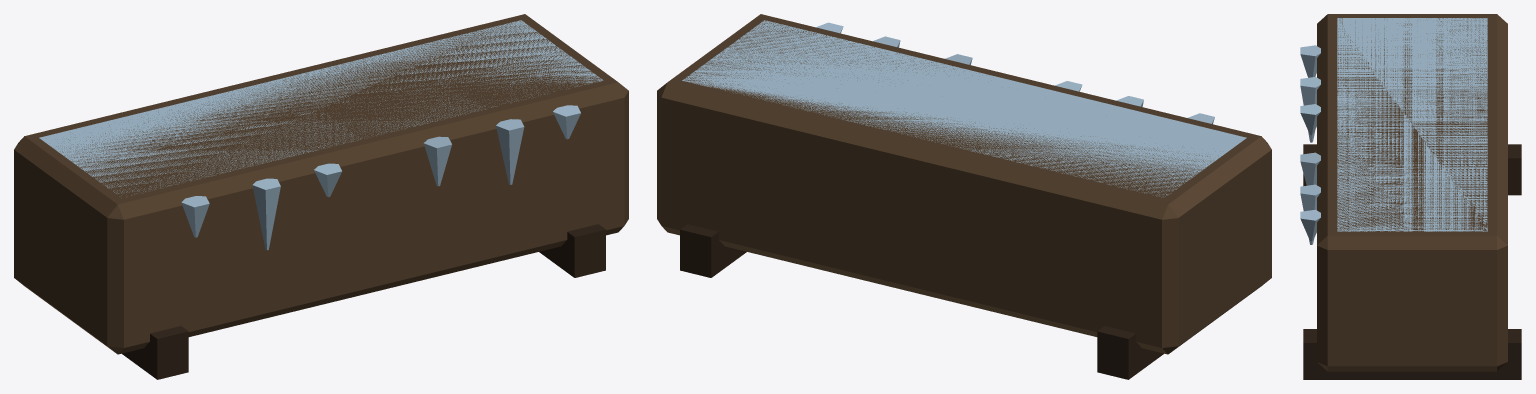
Rendered from village_trough.glb.
3 renders of one model, left to right at view 1: azimuth 30°, elevation 25°; view 2: azimuth 150°, elevation 25°; view 3: azimuth 270°, elevation 25°, orthographic. The views are drawn at different scales.
Visible parts, largest first — view 1: village_trough; view 2: village_trough; view 3: village_trough.
Part boxes in pixels (left/top/right/bottom): village_trough: left=14, top=14, right=628, bottom=379; village_trough: left=657, top=14, right=1271, bottom=379; village_trough: left=1300, top=14, right=1521, bottom=379.
Size of the model in its own units: 2 by 0.63 by 0.8105.
